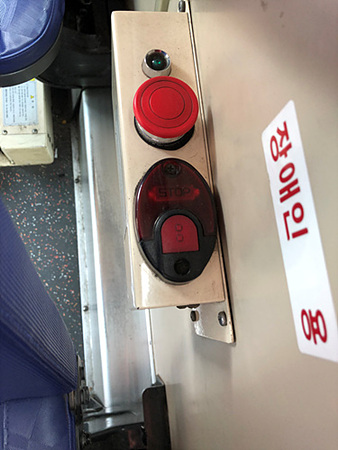bell: (136, 156, 219, 283)
